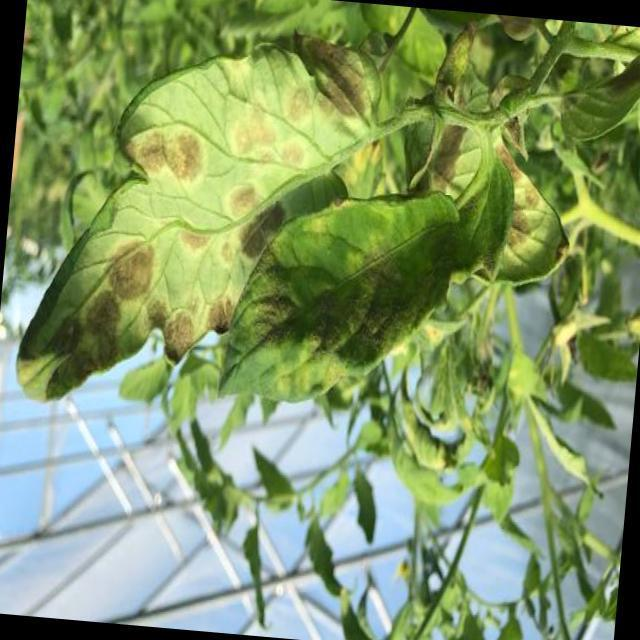Mosaic Virus: (22, 18, 390, 414), (214, 110, 566, 426)
